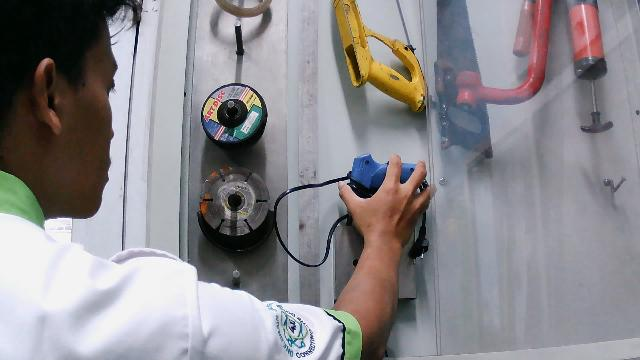solder_electrical: (272, 147, 440, 270)
